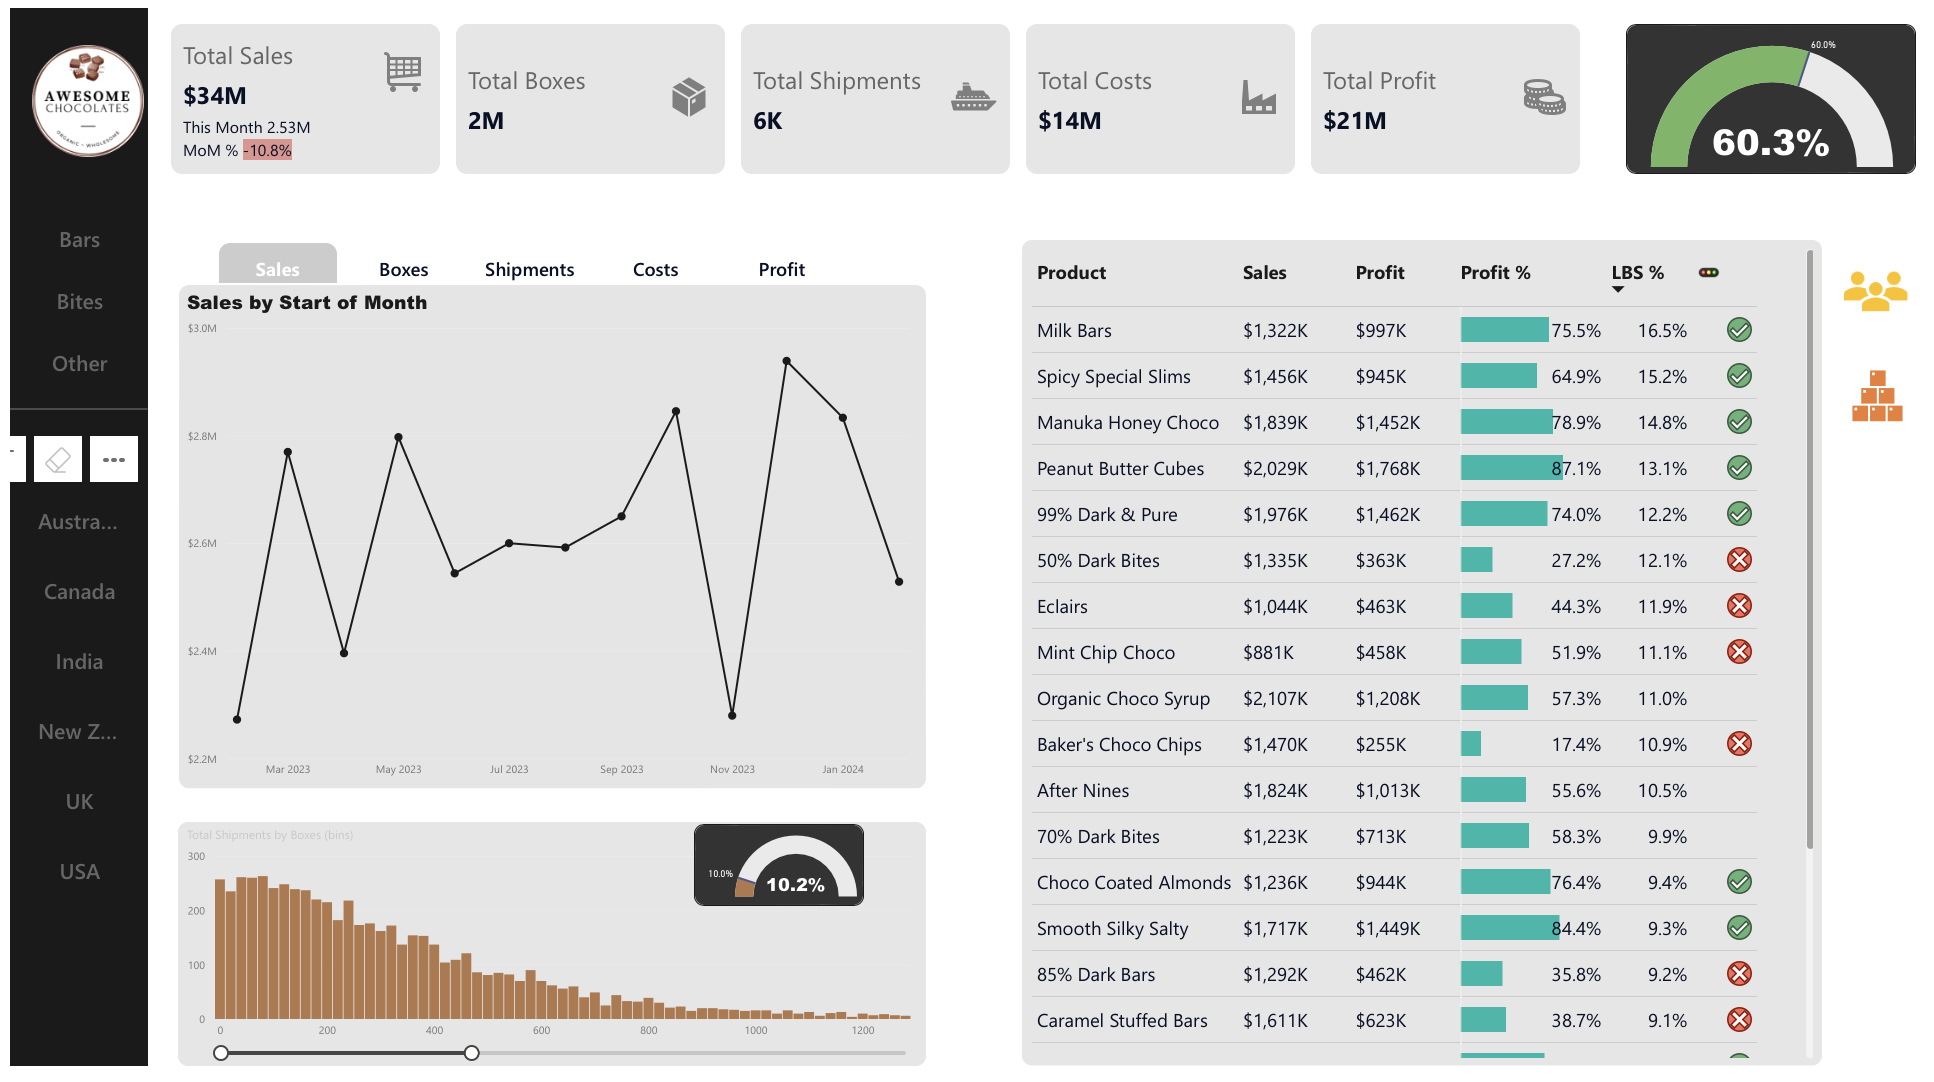

Layout of this report page (visuals, bound fields, positions):
{"tool":"powerbi","page":{"name":"Sales Report","canvas":[1920,1080],"ordinal":2},"visuals":[{"type":"shape","box":[0,0,138,1060],"z":0},{"type":"cardVisual","fields":{"Data":["_Measures.Total Sales","_Measures.Total Boxes","_Measures.Total Shipments","_Measures.Total Costs","_Measures.Total Profit"]},"box":[156,16,1422,150],"z":1000},{"type":"gauge","fields":{"Y":["_Measures.Profit %"]},"box":[1616,16,290,150],"z":2000},{"type":"image","box":[0,32,156,122],"z":3000},{"type":"lineChart","fields":{"Y":["_Measures.Total Boxes"],"Category":["calendar.Start of Month"]},"box":[168,276,748,508],"z":4000},{"type":"advancedSlicerVisual","fields":{"Values":["Measure Selector.Measure Selector"]},"box":[204,229,632,50],"z":5000},{"type":"clusteredColumnChart","fields":{"Category":["shipments.Boxes (bins)"],"Y":["_Measures.Total Shipments"]},"box":[168,815,748,244],"z":6000},{"type":"gauge","fields":{"Y":["_Measures.LBS %"]},"box":[684,816,170,82],"z":7000},{"type":"tableEx","title":"Product Details","fields":{"Values":["products.Product","_Measures.Total Sales","_Measures.Total Profit","_Measures.Profit %","_Measures.LBS %","_Measures.Profit Target Indicator"]},"box":[1012,232,800,828],"z":10000},{"type":"image","title":"People Icon","box":[1818.8,241.2,95,82.5],"z":11000},{"type":"image","title":"Product Icon","box":[1820,350,95,75],"z":12000},{"type":"advancedSlicerVisual","fields":{"Values":["products.Category"]},"box":[10,197.5,120,190],"z":13000},{"type":"advancedSlicerVisual","fields":{"Values":["locations.Geo"]},"box":[10,475,120,427.5],"z":14000},{"type":"shape","box":[0,325,137.5,150],"z":15001}]}

Visuals, with their boxes in screenshot pixels (x1, y1, x2, y2), scaled from the page's 1920x1080 canvas onto the 1934x1082 screenshot:
shape: [left=0, top=0, right=139, bottom=1062]
cardVisual - _Measures.Total Sales x _Measures.Total Boxes: [left=157, top=16, right=1590, bottom=166]
gauge - _Measures.Profit %: [left=1628, top=16, right=1920, bottom=166]
image: [left=0, top=32, right=157, bottom=154]
lineChart - _Measures.Total Boxes x calendar.Start of Month: [left=169, top=277, right=923, bottom=785]
advancedSlicerVisual - Measure Selector.Measure Selector: [left=205, top=229, right=842, bottom=280]
clusteredColumnChart - shipments.Boxes (bins) x _Measures.Total Shipments: [left=169, top=817, right=923, bottom=1061]
gauge - _Measures.LBS %: [left=689, top=818, right=860, bottom=900]
"Product Details" tableEx: [left=1019, top=232, right=1825, bottom=1062]
"People Icon" image: [left=1832, top=242, right=1928, bottom=324]
"Product Icon" image: [left=1833, top=351, right=1929, bottom=426]
advancedSlicerVisual - products.Category: [left=10, top=198, right=131, bottom=388]
advancedSlicerVisual - locations.Geo: [left=10, top=476, right=131, bottom=904]
shape: [left=0, top=326, right=139, bottom=476]
